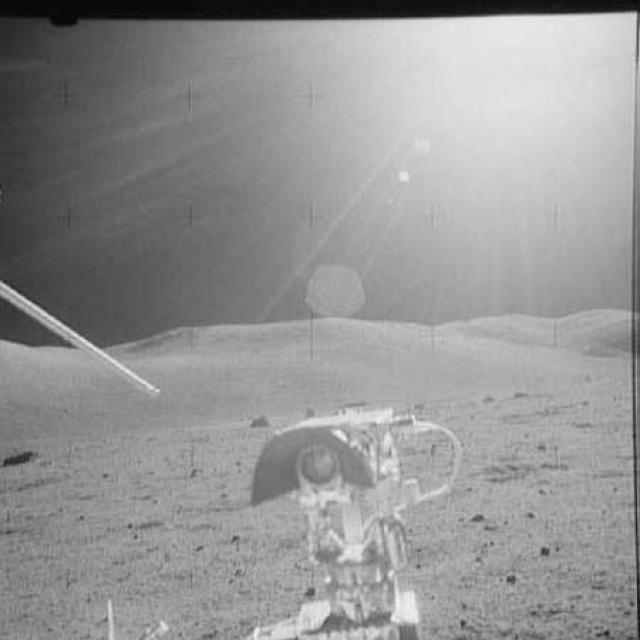crater: (230, 400, 470, 638), (2, 268, 168, 405), (2, 443, 44, 477)
rock: (240, 409, 270, 435)
